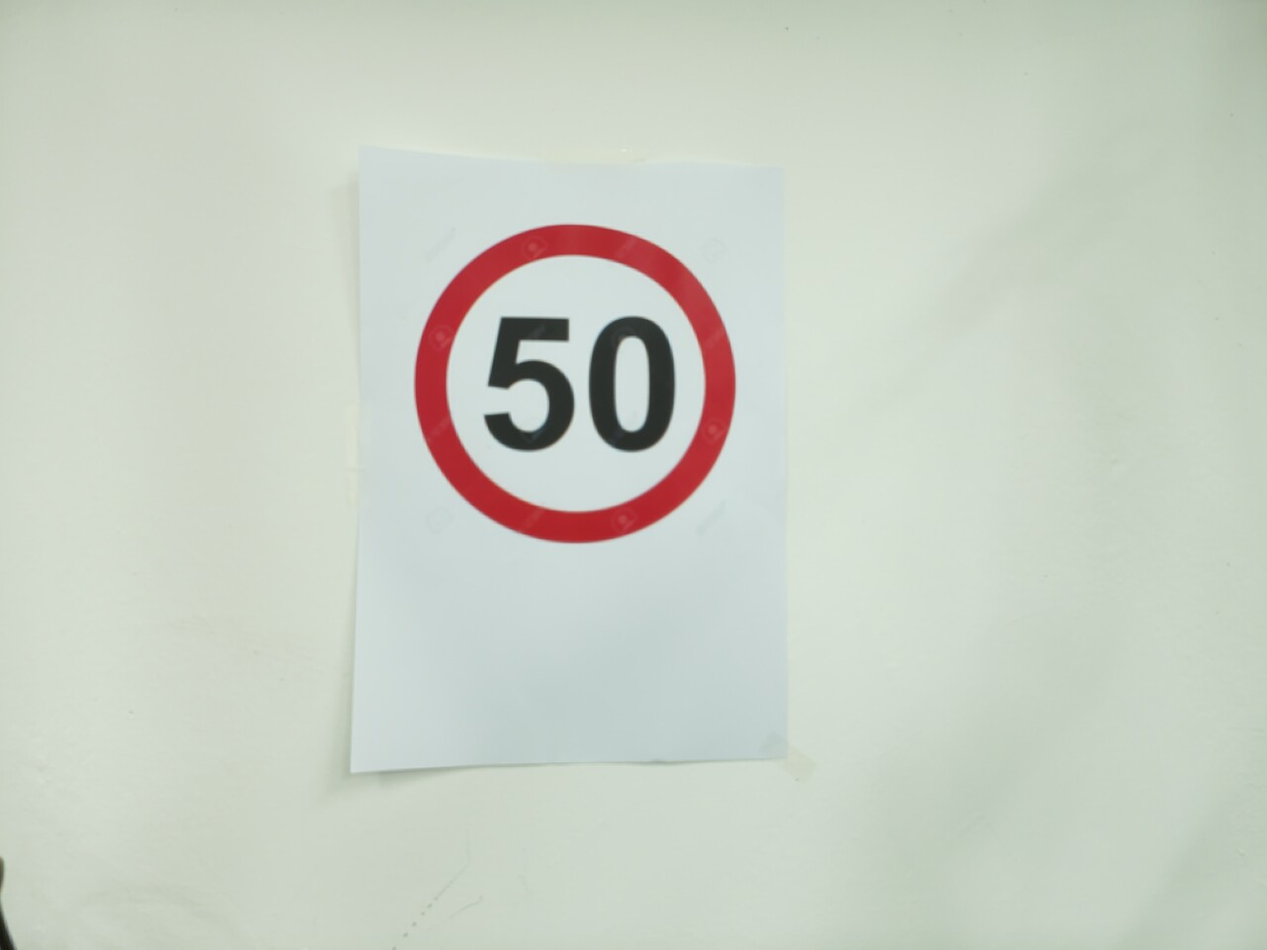speed_50: (404, 214, 746, 553)
